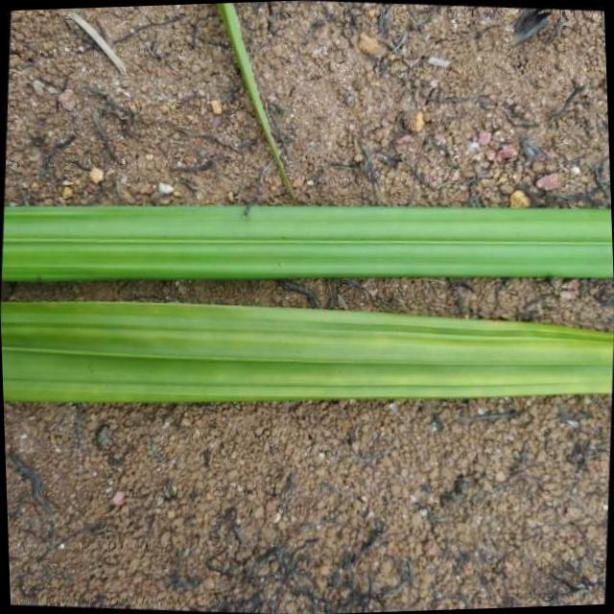nitrogen: (0, 291, 614, 408), (3, 207, 614, 284)
